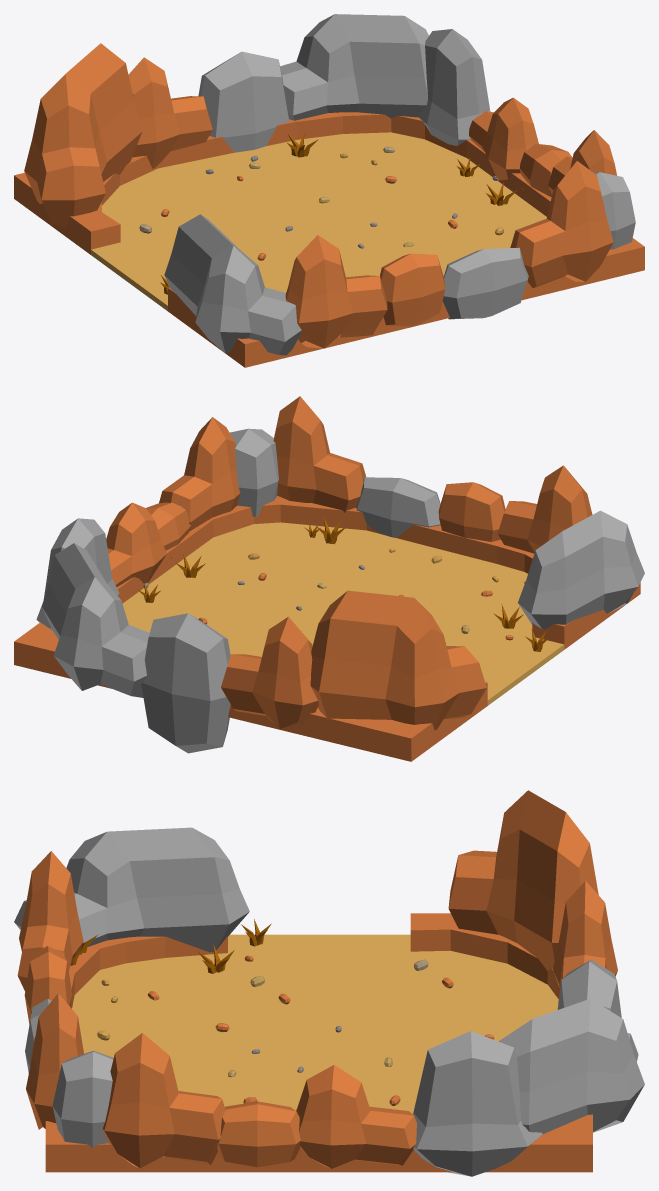
The model's file is cave level set - 1 Way (4).fbx.
3 views of the same model, one above another, from view 1: azimuth 30°, elevation 25°; view 2: azimuth 150°, elevation 25°; view 3: azimuth 270°, elevation 25° (orthographic). The views are drawn at different scales.
Parts seen in each view (by area): view 1: land_platform_001, Cube_004, Cube_001, Cube_003, Cube_005, Cube_002, Cube_007, Cube_006, Cube_010, Cube_000, Cube_011, Cube_012 (+3 smaller); view 2: land_platform_001, Cube_004, Cube_001, Cube_007, Cube_003, Cube_010, Cube_005, Cube_009, Cube_002, Cube_000, Cube_012, Cube_011 (+3 smaller); view 3: land_platform_001, Cube_003, Cube_004, Cube_001, Cube_006, Cube_009, Cube_012, Cube_002, Cube_013, Cube_008, Cube_005, Cube_010 (+3 smaller).
Part boxes in pixels (bbox=[...]): land_platform_001: bbox=[14, 112, 644, 367]; Cube_004: bbox=[24, 43, 142, 229]; Cube_001: bbox=[280, 14, 428, 120]; Cube_003: bbox=[164, 214, 301, 355]; Cube_005: bbox=[510, 161, 613, 288]; Cube_002: bbox=[285, 235, 387, 348]; Cube_007: bbox=[198, 51, 289, 152]; Cube_006: bbox=[418, 29, 490, 145]; Cube_010: bbox=[128, 57, 212, 168]; Cube_000: bbox=[442, 247, 528, 319]; Cube_011: bbox=[380, 253, 445, 326]; Cube_012: bbox=[469, 97, 538, 180]; land_platform_001: bbox=[14, 496, 640, 761]; Cube_004: bbox=[310, 590, 486, 730]; Cube_001: bbox=[42, 543, 149, 697]; Cube_007: bbox=[141, 613, 230, 753]; Cube_003: bbox=[518, 510, 644, 629]; Cube_010: bbox=[221, 616, 318, 728]; Cube_005: bbox=[273, 396, 366, 512]; Cube_009: bbox=[159, 417, 240, 530]; Cube_002: bbox=[497, 465, 592, 553]; Cube_000: bbox=[356, 477, 440, 537]; Cube_012: bbox=[106, 502, 166, 586]; Cube_011: bbox=[438, 482, 505, 541]; land_platform_001: bbox=[45, 913, 592, 1172]; Cube_003: bbox=[14, 827, 249, 952]; Cube_004: bbox=[448, 790, 598, 970]; Cube_001: bbox=[499, 998, 644, 1133]; Cube_006: bbox=[412, 1031, 542, 1176]; Cube_009: bbox=[103, 1033, 225, 1168]; Cube_012: bbox=[296, 1065, 416, 1168]; Cube_002: bbox=[17, 851, 83, 991]; Cube_013: bbox=[217, 1101, 300, 1167]; Cube_008: bbox=[52, 1050, 113, 1148]; Cube_005: bbox=[26, 993, 83, 1129]; Cube_010: bbox=[553, 881, 617, 1002].
Bounding box in the file's own units: 16.76 × 7.02 × 17.49.
